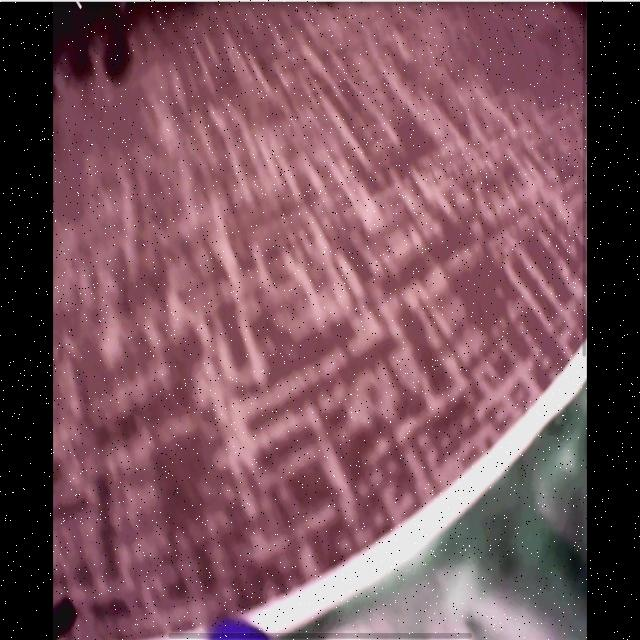ball: (209, 621, 270, 640)
